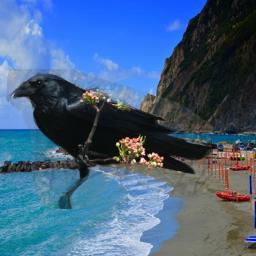Crow: (3, 69, 213, 209)
